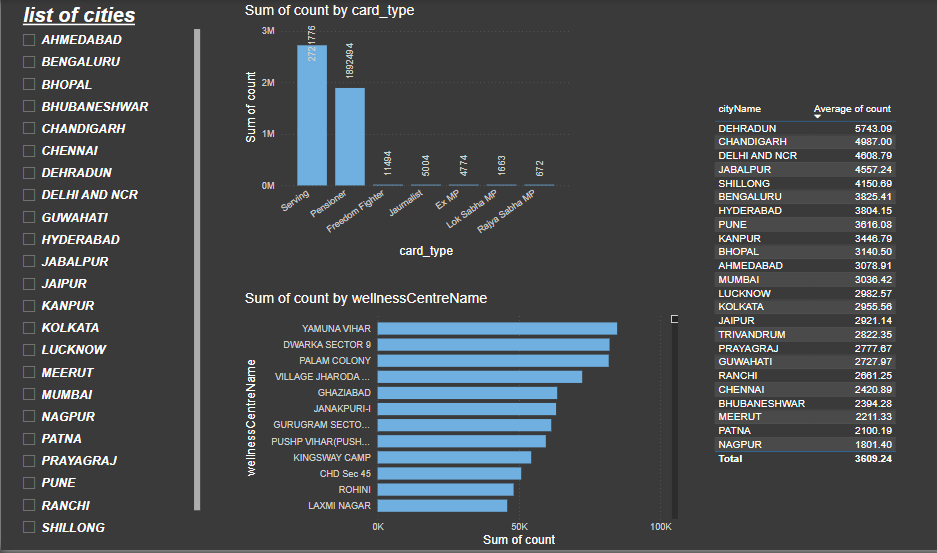

The page's visual inventory and layout, read from the dashboard file:
{"tool":"powerbi","page":{"name":"Page 1","canvas":[1280,720],"ordinal":0},"visuals":[{"type":"columnChart","fields":{"Category":["Wellness_Centre_Beneficiaries.card_type"],"Y":["Sum(Wellness_Centre_Beneficiaries.count)"]},"box":[314.4,2.9,436.4,339.4],"z":0},{"type":"barChart","fields":{"Category":["Wellness_Centre_Beneficiaries.wellnessCentreName"],"Y":["Sum(Wellness_Centre_Beneficiaries.count)"]},"box":[314.4,379.1,577.5,340.9],"z":1000},{"type":"slicer","fields":{"Values":["Wellness_Centre_Beneficiaries.cityName"]},"box":[15.1,0,250.3,705.5],"z":2000},{"type":"tableEx","fields":{"Values":["Wellness_Centre_Beneficiaries.cityName","Avg(Wellness_Centre_Beneficiaries.count)"]},"box":[909.8,2.8,335.8,534],"z":3000}]}

Visuals, with their boxes on the page's 1280x720 design canvas (x1, y1, x2, y2). These are canvas units, not pixel positions in the 937x553 screenshot, which may show the page scaled, cropped or inside an application window:
columnChart - Wellness_Centre_Beneficiaries.card_type x Sum(Wellness_Centre_Beneficiaries.count): rect(314, 3, 751, 342)
barChart - Wellness_Centre_Beneficiaries.wellnessCentreName x Sum(Wellness_Centre_Beneficiaries.count): rect(314, 379, 892, 720)
slicer - Wellness_Centre_Beneficiaries.cityName: rect(15, 0, 265, 706)
tableEx - Wellness_Centre_Beneficiaries.cityName x Avg(Wellness_Centre_Beneficiaries.count): rect(910, 3, 1246, 537)
